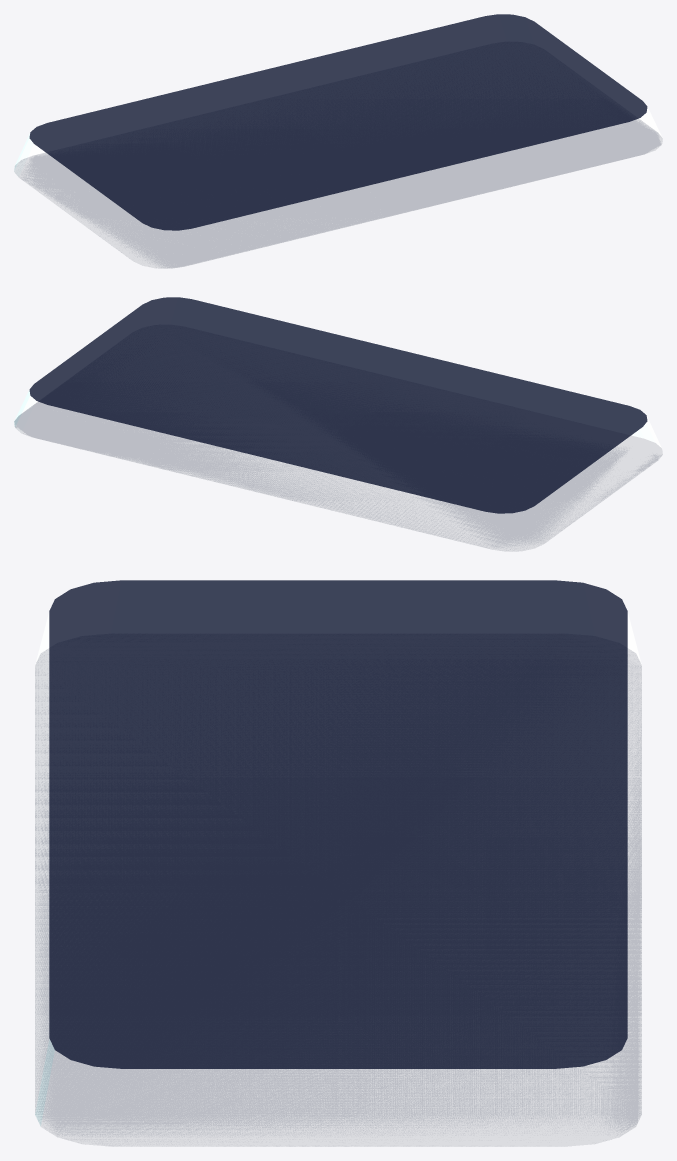
The model's file is button_glass_01.glb.
3 renders of one model, top to bottom at view 1: azimuth 30°, elevation 25°; view 2: azimuth 150°, elevation 25°; view 3: azimuth 270°, elevation 25°, orthographic. The views are drawn at different scales.
Parts seen in each view (by area): view 1: button_base; view 2: button_base; view 3: button_base.
Part boxes in pixels (x1=…): button_base: x1=14, y1=14, x2=662, y2=268; button_base: x1=14, y1=297, x2=662, y2=551; button_base: x1=35, y1=580, x2=641, y2=1146.
Size of the model in its own units: 0.084 by 0.005 by 0.042.
